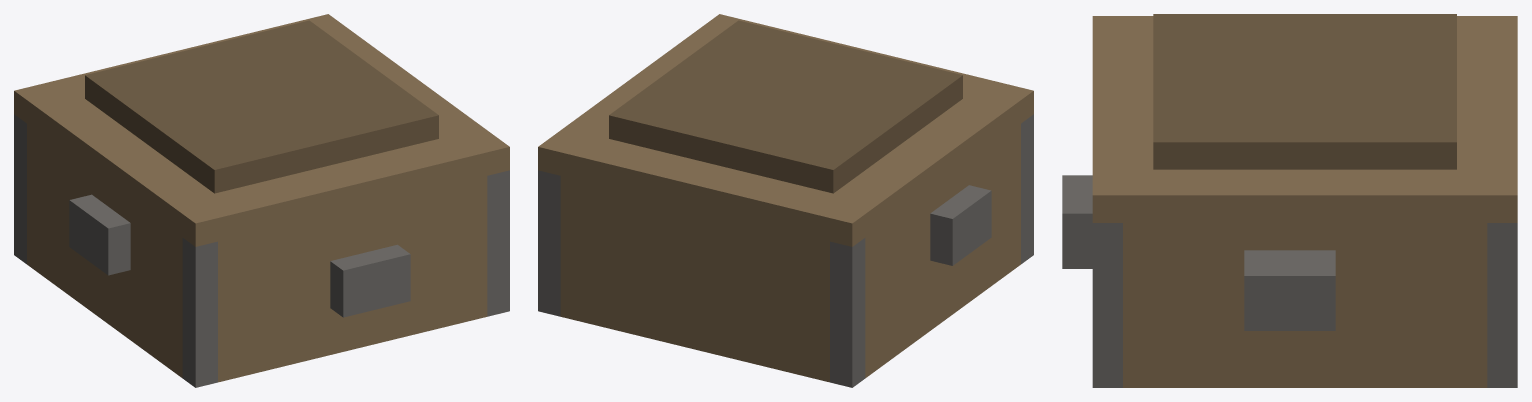
File: caja_herramientas_roble_01.glb
3 views of the same model, side by side, from view 1: azimuth 30°, elevation 25°; view 2: azimuth 150°, elevation 25°; view 3: azimuth 270°, elevation 25° (orthographic). The views are drawn at different scales.
Visible parts, largest first — view 1: caja_herramientas_roble; view 2: caja_herramientas_roble; view 3: caja_herramientas_roble.
Part boxes in pixels (box(x1,y1,x2,y2)): caja_herramientas_roble: box(14, 14, 509, 387); caja_herramientas_roble: box(538, 14, 1033, 387); caja_herramientas_roble: box(1062, 14, 1517, 387).
Bounding box in the file's own units: 1.21 × 0.5714 × 1.07.
